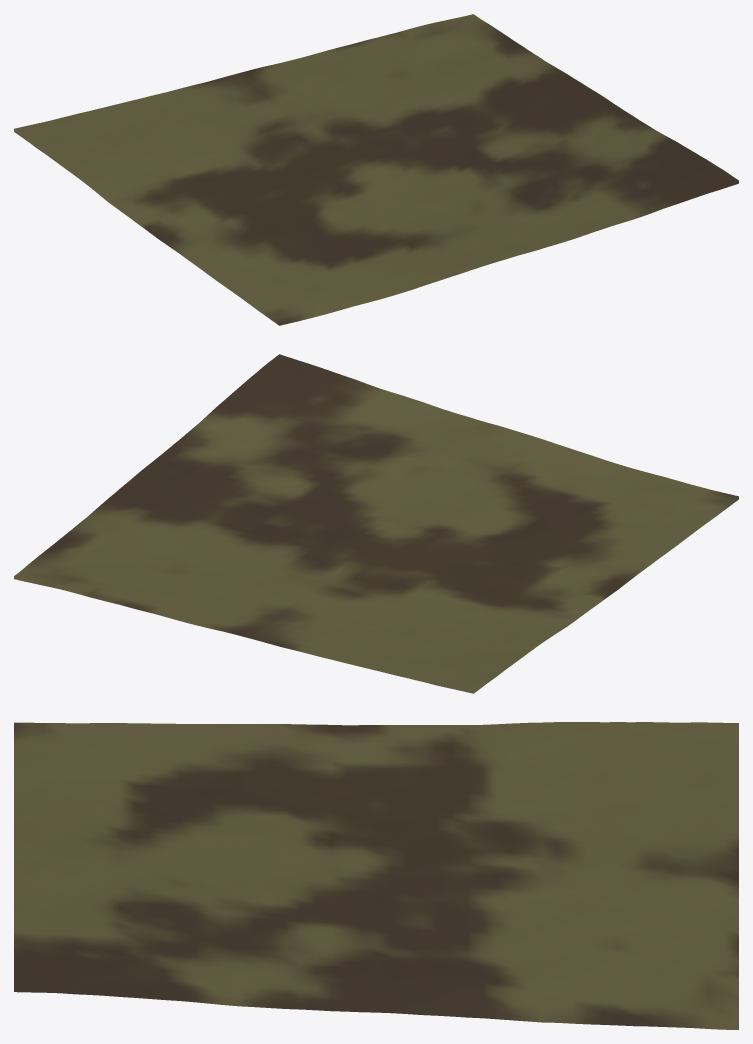
File: land_m_04_06.glb
3 views of the same model, one above another, from view 1: azimuth 30°, elevation 25°; view 2: azimuth 150°, elevation 25°; view 3: azimuth 270°, elevation 25° (orthographic). The views are drawn at different scales.
Visible parts, largest first — view 1: land_m_04_06; view 2: land_m_04_06; view 3: land_m_04_06.
Boxes of the visible parts, x1,y1,x2,y2 form: land_m_04_06: (14, 14, 738, 325); land_m_04_06: (14, 354, 738, 693); land_m_04_06: (14, 722, 738, 1029).
Size of the model in its own units: 960 by 69.83 by 960.
